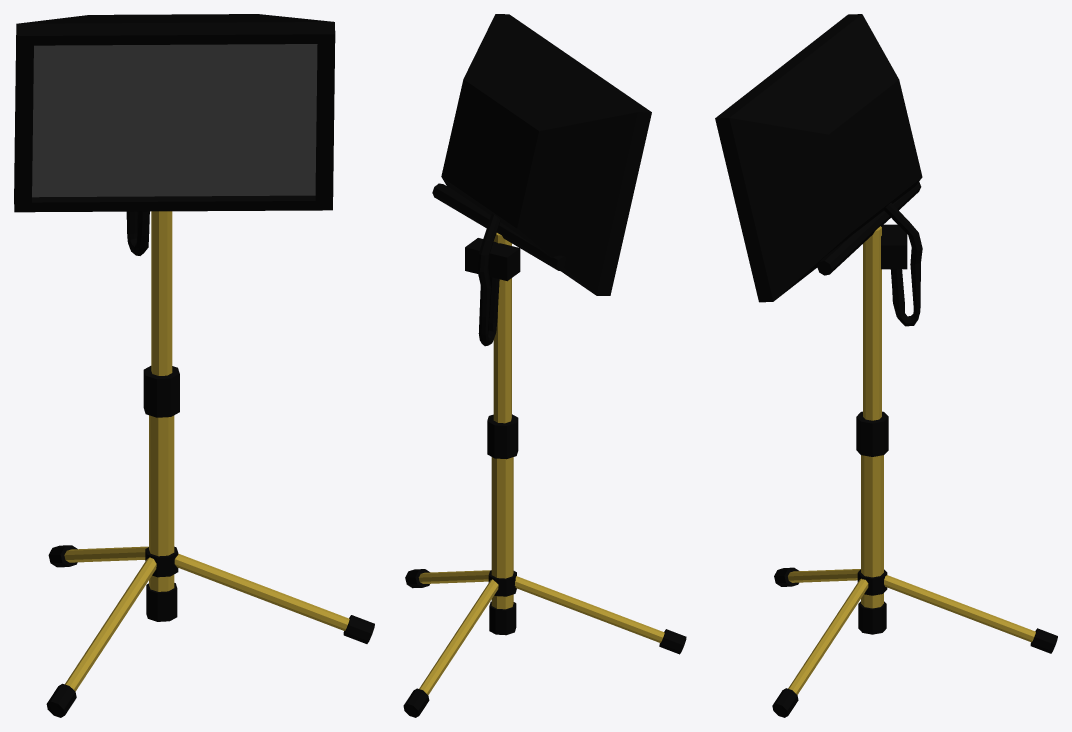
The model's file is Flood Light.fbx.
3 views of the same model, side by side, from view 1: azimuth 30°, elevation 25°; view 2: azimuth 150°, elevation 25°; view 3: azimuth 270°, elevation 25° (orthographic). The views are drawn at different scales.
Parts seen in each view (by area): view 1: Cylinder.003, Flood Light; view 2: Cylinder.003, Flood Light; view 3: Cylinder.003, Flood Light.
Boxes of the visible parts, x1,y1,x2,y2 form: Cylinder.003: (14, 14, 335, 212); Flood Light: (46, 211, 374, 717); Cylinder.003: (432, 14, 651, 295); Flood Light: (403, 213, 686, 717); Cylinder.003: (715, 14, 922, 302); Flood Light: (772, 203, 1057, 717).
Bounding box in the file's own units: 1006 × 1952 × 1057.
